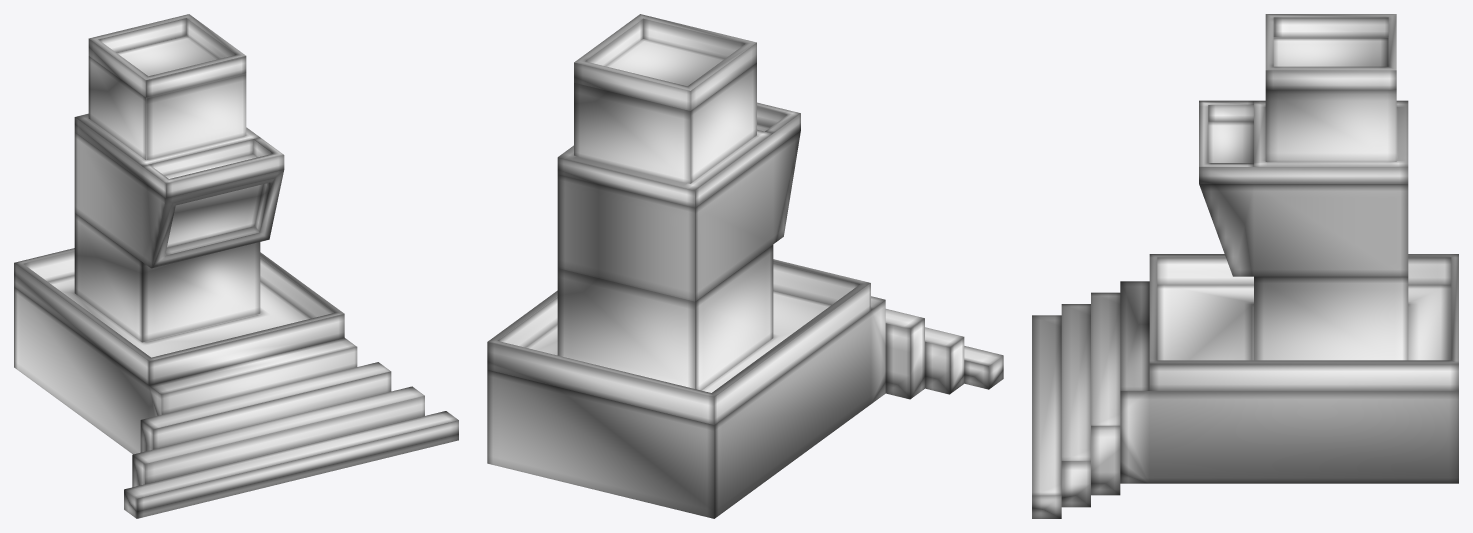
The model's file is Control-Tower-01.fbx.
3 views of the same model, side by side, from view 1: azimuth 30°, elevation 25°; view 2: azimuth 150°, elevation 25°; view 3: azimuth 270°, elevation 25° (orthographic). The views are drawn at different scales.
Parts seen in each view (by area): view 1: Control-Tower; view 2: Control-Tower; view 3: Control-Tower.
Boxes of the visible parts, left/top/right/bottom form: Control-Tower: left=14, top=14, right=458, bottom=518; Control-Tower: left=487, top=14, right=1003, bottom=518; Control-Tower: left=1032, top=14, right=1458, bottom=518.
Size of the model in its own units: 3 by 3 by 3.
